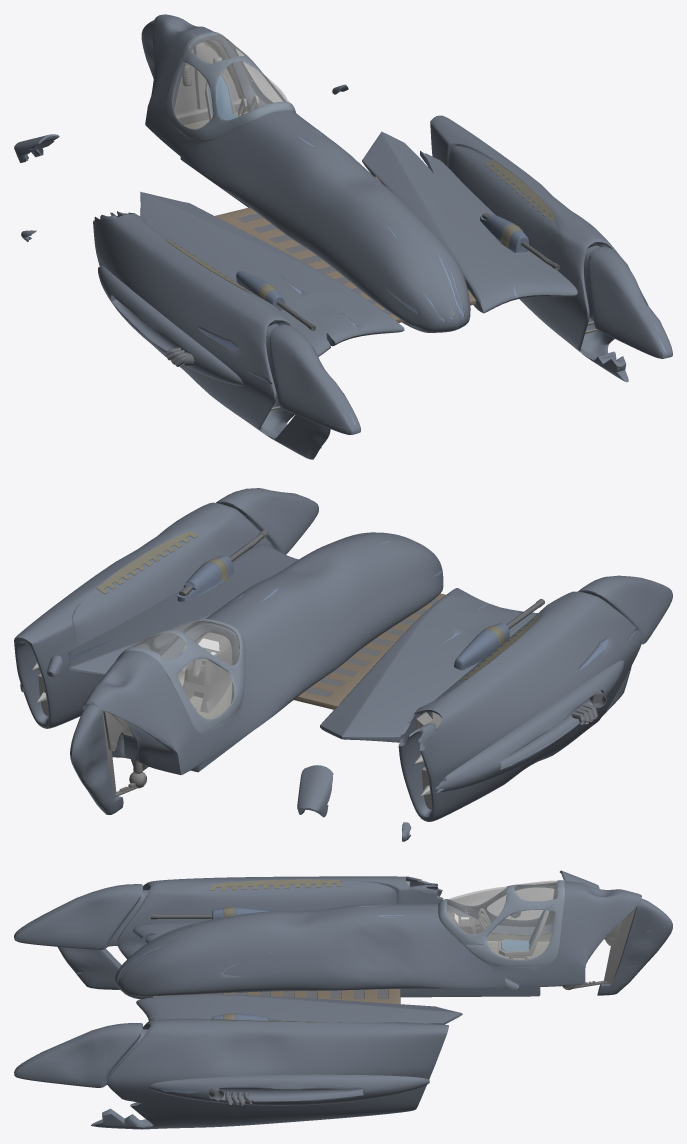
File: sw_soulless_one.glb
The picture shows the model from 3 angles, top to bottom: view 1: azimuth 30°, elevation 25°; view 2: azimuth 150°, elevation 25°; view 3: azimuth 270°, elevation 25°; orthographic projection. The views are drawn at different scales.
Visible parts, largest first — view 1: hull_mat_15, hull_mat_3, Object_262, hull_mat_11, hull_mat_4, hull_mat_2, hull_mat_7, hull_mat_6, hull_mat_16, Object_288; view 2: hull_mat_15, hull_mat_3, hull_mat_5, Object_262, hull_mat_2, hull_mat_4, hull_mat_7, hull_mat_6, hull_mat_14, Object_280, hull_mat_0; view 3: hull_mat_15, hull_mat_3, Object_262, hull_mat_5, hull_mat_7, hull_mat_4, hull_mat_11, hull_mat_2, Object_280, hull_mat_6, Object_288, hull_mat_0.
Boxes of the visible parts, x1,y1,x2,y2 form: hull_mat_15: [14, 14, 672, 459]; hull_mat_3: [173, 34, 289, 129]; Object_262: [165, 31, 295, 142]; hull_mat_11: [174, 43, 258, 124]; hull_mat_4: [214, 176, 476, 322]; hull_mat_2: [236, 151, 528, 346]; hull_mat_7: [165, 159, 555, 299]; hull_mat_6: [237, 213, 392, 314]; hull_mat_16: [200, 123, 671, 429]; Object_288: [208, 75, 237, 120]; hull_mat_15: [14, 488, 672, 841]; hull_mat_3: [129, 620, 239, 718]; hull_mat_5: [38, 632, 442, 809]; Object_262: [115, 619, 245, 733]; hull_mat_2: [68, 555, 523, 670]; hull_mat_4: [294, 593, 445, 709]; hull_mat_7: [96, 531, 539, 680]; hull_mat_6: [305, 599, 438, 696]; hull_mat_14: [179, 530, 544, 629]; Object_280: [177, 635, 232, 718]; hull_mat_0: [571, 690, 606, 724]; hull_mat_15: [14, 870, 672, 1129]; hull_mat_3: [446, 880, 557, 959]; Object_262: [438, 880, 564, 966]; hull_mat_5: [406, 881, 635, 983]; hull_mat_7: [210, 879, 341, 1022]; hull_mat_4: [153, 989, 400, 1004]; hull_mat_11: [461, 908, 549, 959]; hull_mat_2: [75, 907, 645, 1024]; Object_280: [487, 933, 551, 959]; hull_mat_6: [165, 989, 388, 998]; Object_288: [501, 910, 544, 951]; hull_mat_0: [209, 1088, 253, 1105].
Size of the model in its own units: 1.21 by 0.5232 by 1.78.
